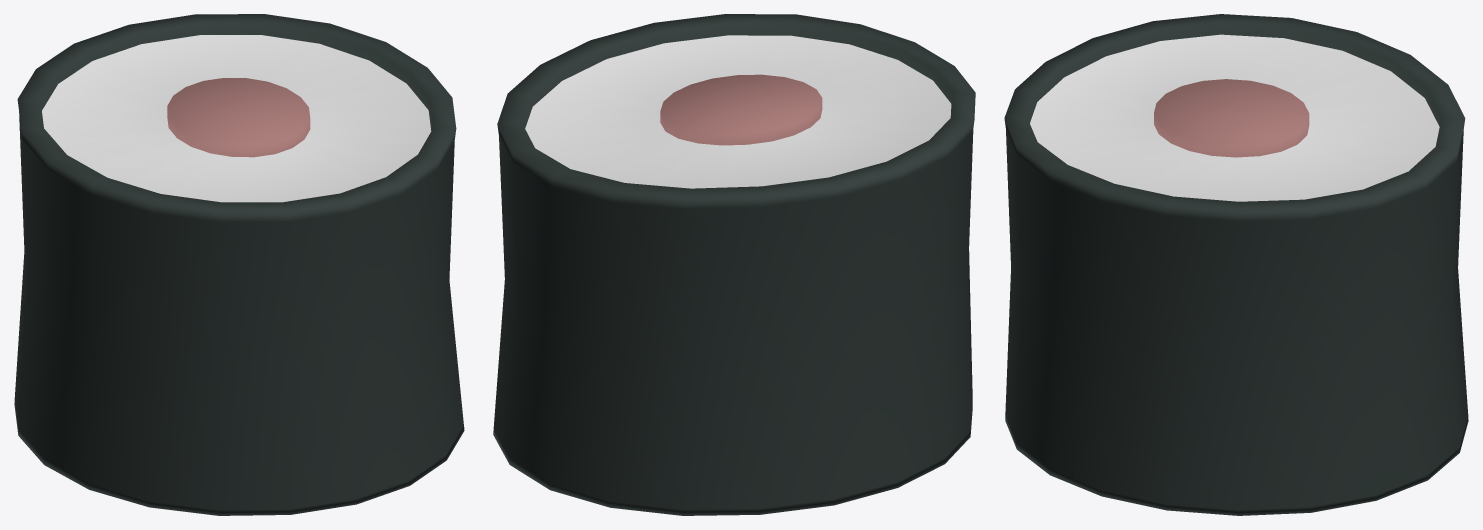
Rendered from Sushi_SM.fbx.
3 views of the same model, side by side, from view 1: azimuth 30°, elevation 25°; view 2: azimuth 150°, elevation 25°; view 3: azimuth 270°, elevation 25° (orthographic). The views are drawn at different scales.
Parts seen in each view (by area): view 1: pCylinder1; view 2: pCylinder1; view 3: pCylinder1.
Part boxes in pixels (<box>): pCylinder1: <box>14,14,464,515</box>; pCylinder1: <box>493,14,975,515</box>; pCylinder1: <box>1004,14,1468,515</box>.
Bounding box in the file's own units: 1.9 × 1.44 × 1.94.
